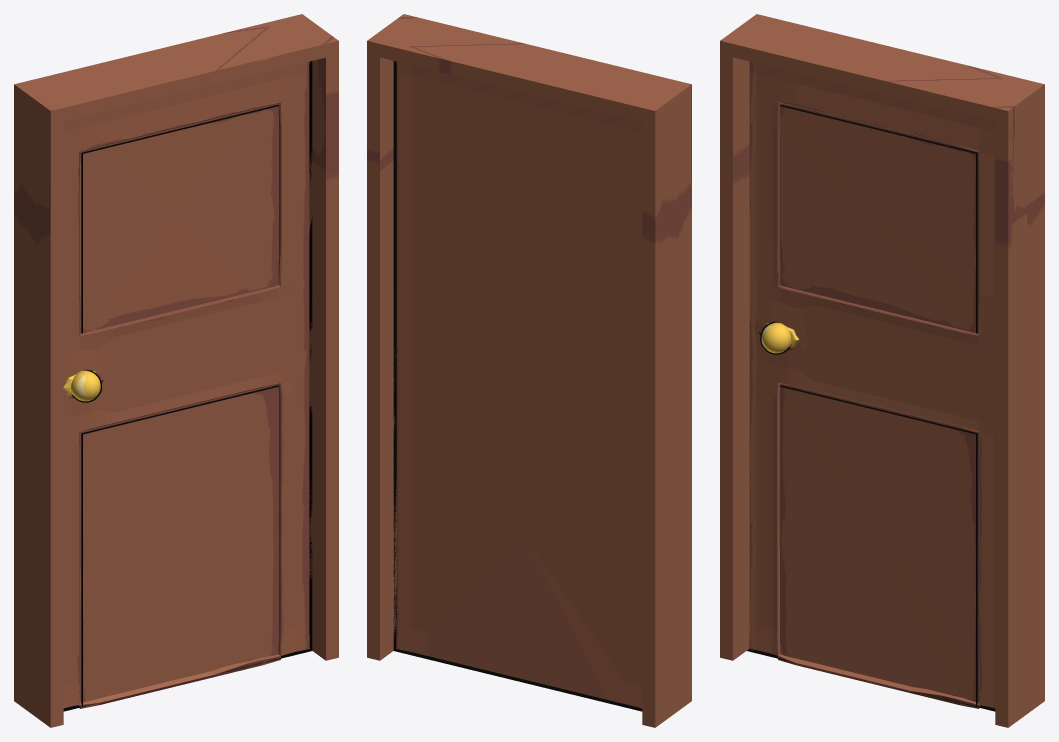
The model's file is RoomDoorV2.fbx.
The picture shows the model from 3 angles, left to right: view 1: azimuth 30°, elevation 25°; view 2: azimuth 150°, elevation 25°; view 3: azimuth 330°, elevation 25°; orthographic projection.
Parts seen in each view (by area): view 1: Door, Door Frame, Door Handle; view 2: Door, Door Frame; view 3: Door, Door Frame, Door Handle.
Boxes of the visible parts, left/top/right/bottom form: Door: left=63, top=61, right=312, bottom=711; Door Frame: left=14, top=14, right=338, bottom=727; Door Handle: left=71, top=369, right=101, bottom=402; Door: left=393, top=61, right=642, bottom=711; Door Frame: left=367, top=14, right=691, bottom=727; Door: left=747, top=61, right=995, bottom=711; Door Frame: left=720, top=14, right=1044, bottom=727; Door Handle: left=760, top=321, right=791, bottom=354.
Bounding box in the file's own units: 99.96 × 206 × 22.
2 materials, 1 textured.
